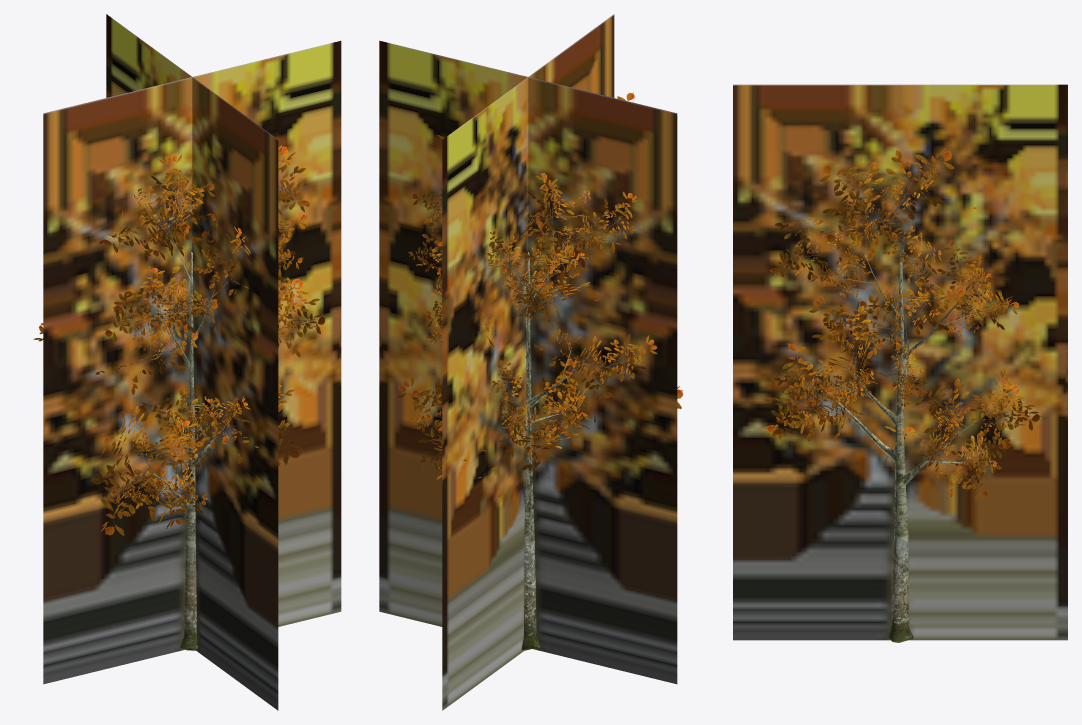
File: Tree-Beech2C-mobile.fbx
3 renders of one model, left to right at view 1: azimuth 30°, elevation 25°; view 2: azimuth 150°, elevation 25°; view 3: azimuth 270°, elevation 25°, orthographic. The views are drawn at different scales.
Parts seen in each view (by area): view 1: Billboard-BeechC, Tree-Beech2C-mobile_LOD0; view 2: Billboard-BeechC, Tree-Beech2C-mobile_LOD0; view 3: Billboard-BeechC, Tree-Beech2C-mobile_LOD0.
Boxes of the visible parts, left/top/right/bottom form: Billboard-BeechC: left=43, top=14, right=341, bottom=710; Tree-Beech2C-mobile_LOD0: left=33, top=145, right=325, bottom=650; Billboard-BeechC: left=379, top=14, right=677, bottom=710; Tree-Beech2C-mobile_LOD0: left=397, top=92, right=683, bottom=650; Billboard-BeechC: left=733, top=84, right=1067, bottom=640; Tree-Beech2C-mobile_LOD0: left=762, top=148, right=1040, bottom=642.
Size of what is drawn, in the model's own units: 1712 by 3101 by 1694.
